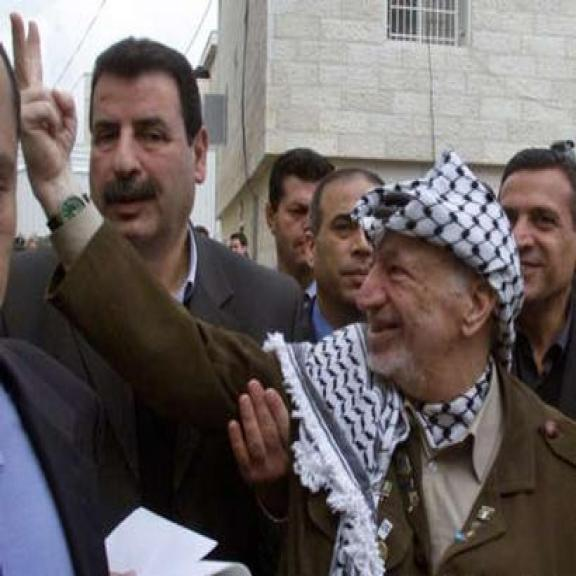face: (88, 74, 217, 246), (360, 225, 491, 382), (301, 190, 400, 328), (493, 164, 576, 323), (255, 162, 337, 274)
